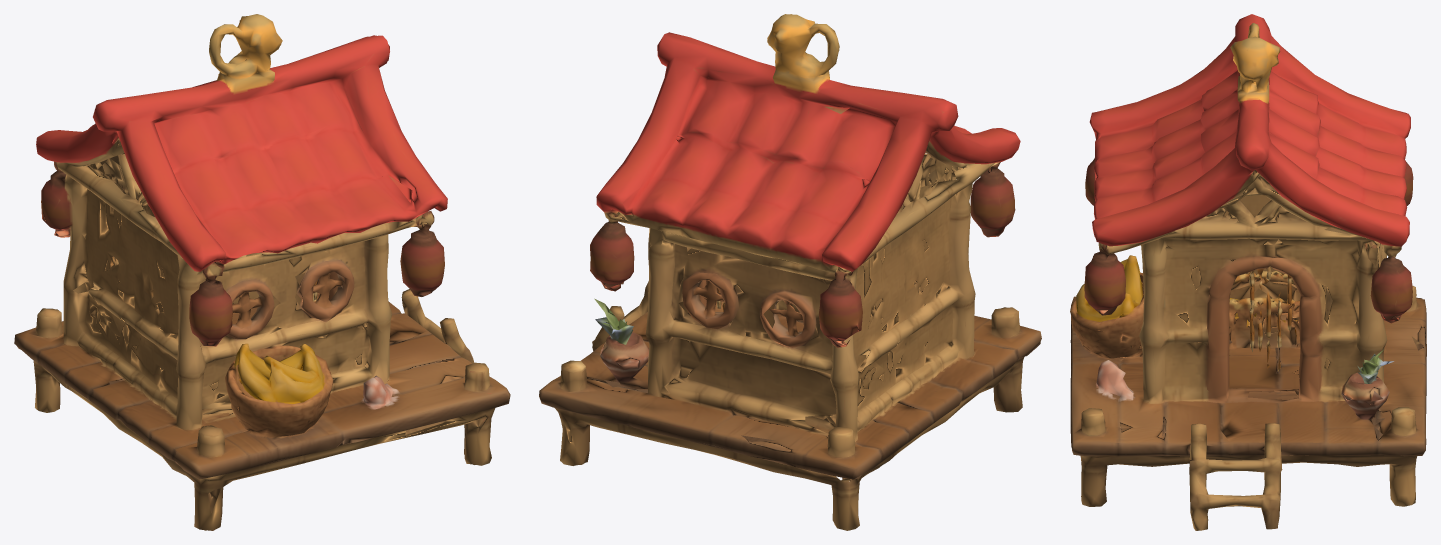
Rendered from healing_pavilion.glb.
The picture shows the model from 3 angles, left to right: view 1: azimuth 30°, elevation 25°; view 2: azimuth 150°, elevation 25°; view 3: azimuth 270°, elevation 25°; orthographic projection. The views are drawn at different scales.
Visible parts, largest first — view 1: world; view 2: world; view 3: world.
Part boxes in pixels (left/top/right/bottom): world: left=14, top=14, right=510, bottom=530; world: left=539, top=14, right=1041, bottom=530; world: left=1070, top=14, right=1426, bottom=530.
Size of the model in its own units: 0.9026 by 0.9976 by 0.8062.
Materials: 1 (1 with a texture image).
